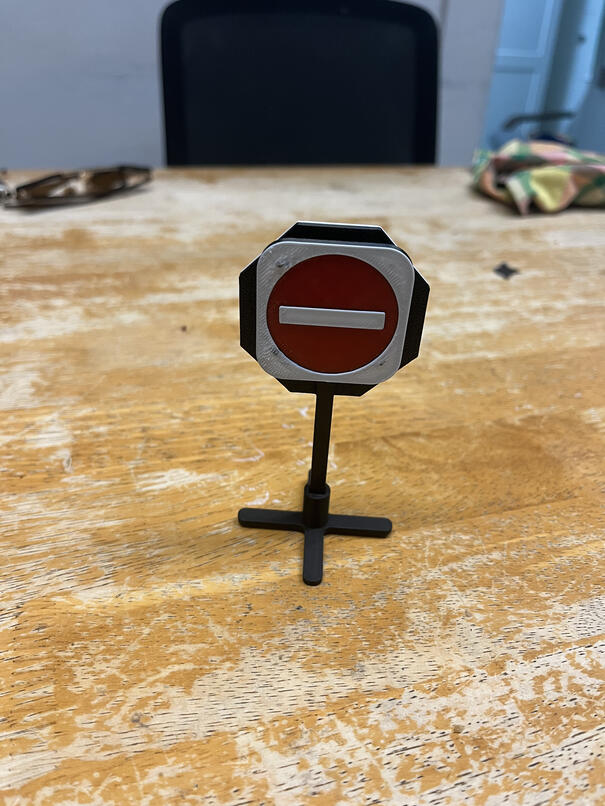sign_noentry: (257, 237, 418, 387)
